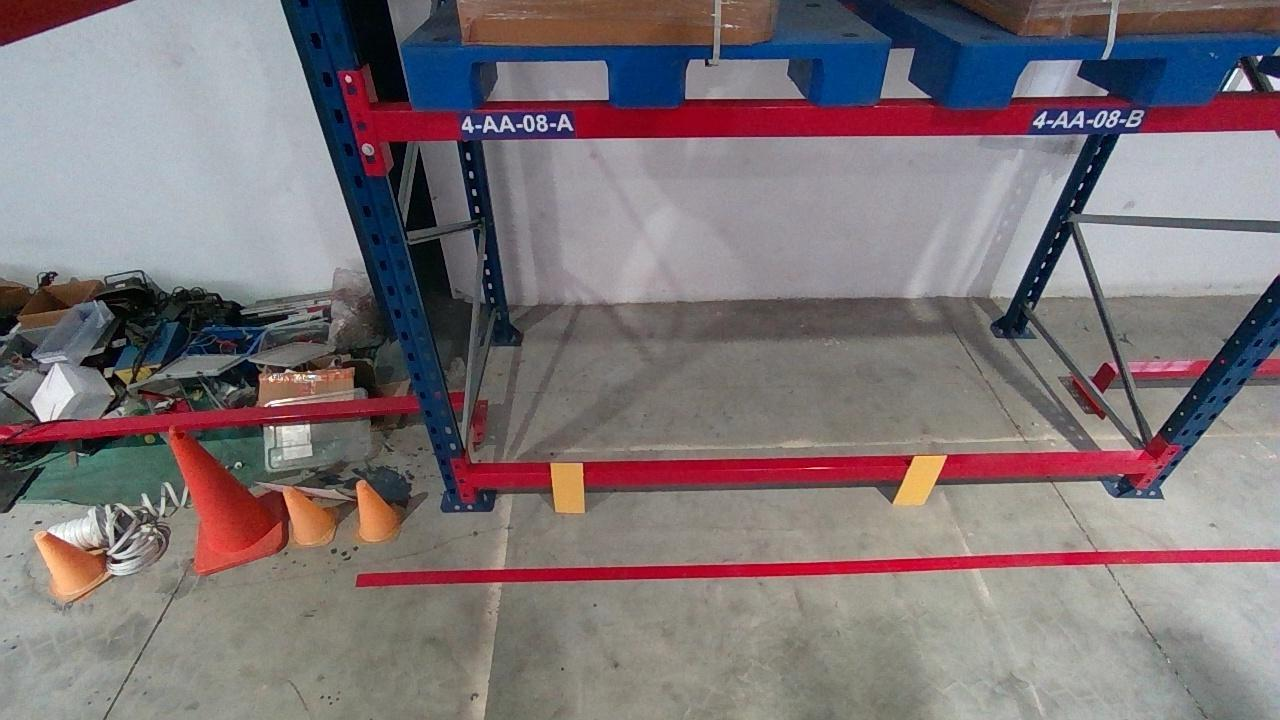h_rack: (373, 101, 1277, 138), (472, 458, 1153, 488)
orange_strip: (891, 455, 949, 505), (550, 462, 584, 511)
red_line: (352, 547, 1277, 586)
small_pallet: (401, 41, 891, 104), (956, 39, 1279, 104)
